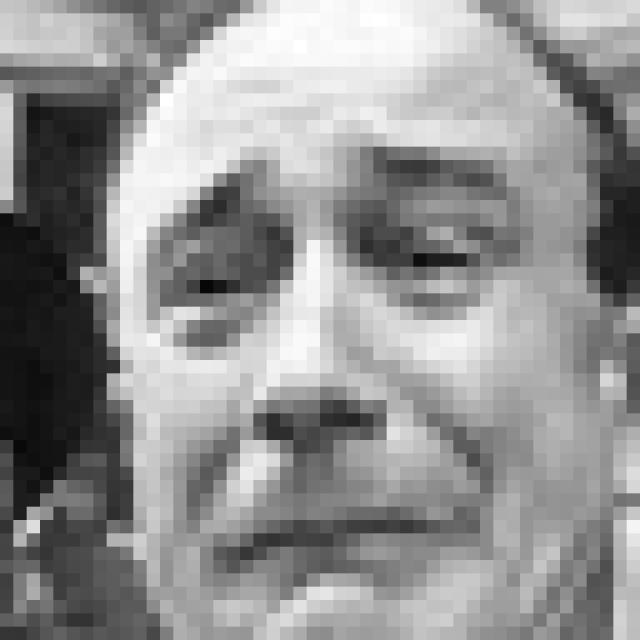sad: (143, 132, 534, 622)
